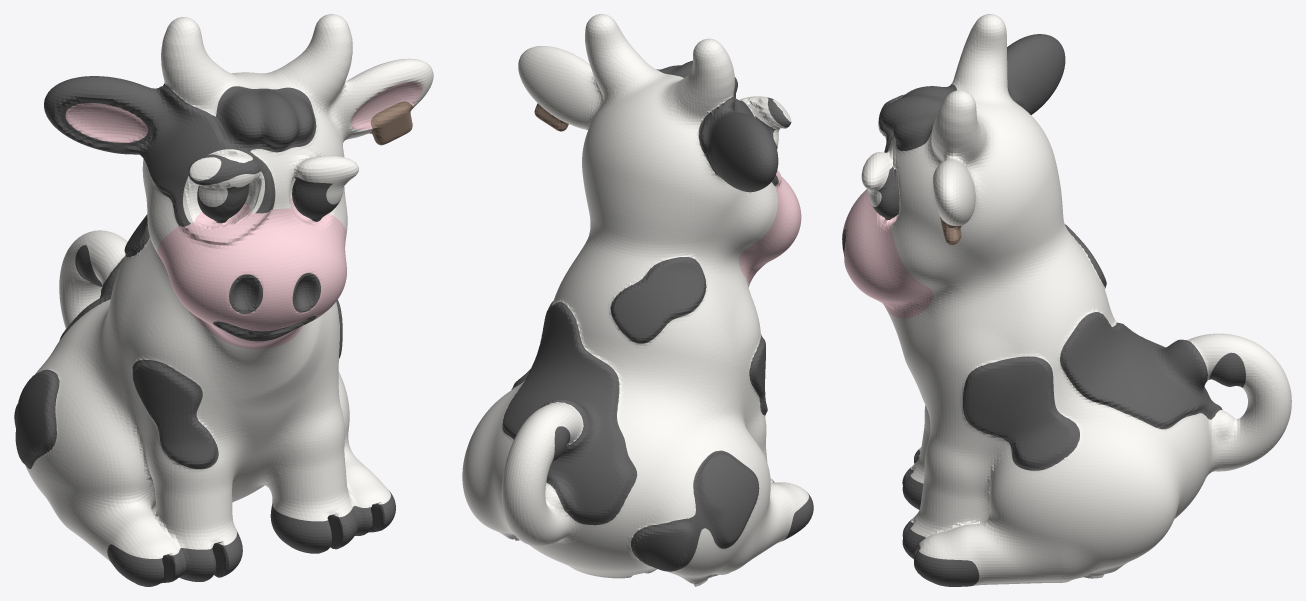
The model's file is CRW-001-cowaramup-keyring-classic.glb.
3 views of the same model, side by side, from view 1: azimuth 30°, elevation 25°; view 2: azimuth 150°, elevation 25°; view 3: azimuth 270°, elevation 25° (orthographic). The views are drawn at different scales.
Parts seen in each view (by area): view 1: T1 tool_1 [PLA Cow White] - eye highlights, eyelids, eye rin, T2 tool_2 [PLA Cow Black] - pupils, nostrils, smile, tail tu, T3 tool_3 [PLA Cow Pink] - inner ears, muzzle, T4 tool_4 [TPU Earth Brown] - ear tag; view 2: T1 tool_1 [PLA Cow White] - eye highlights, eyelids, eye rin, T2 tool_2 [PLA Cow Black] - pupils, nostrils, smile, tail tu, T3 tool_3 [PLA Cow Pink] - inner ears, muzzle; view 3: T1 tool_1 [PLA Cow White] - eye highlights, eyelids, eye rin, T2 tool_2 [PLA Cow Black] - pupils, nostrils, smile, tail tu, T3 tool_3 [PLA Cow Pink] - inner ears, muzzle.
Part boxes in pixels (<box>): T1 tool_1 [PLA Cow White] - eye highlights, eyelids, eye rin: <box>25,14,433,561</box>; T2 tool_2 [PLA Cow Black] - pupils, nostrils, smile, tail tu: <box>14,76,395,586</box>; T3 tool_3 [PLA Cow Pink] - inner ears, muzzle: <box>65,81,422,349</box>; T4 tool_4 [TPU Earth Brown] - ear tag: <box>369,101,413,145</box>; T1 tool_1 [PLA Cow White] - eye highlights, eyelids, eye rin: <box>462,14,808,586</box>; T2 tool_2 [PLA Cow Black] - pupils, nostrils, smile, tail tu: <box>502,60,813,571</box>; T3 tool_3 [PLA Cow Pink] - inner ears, muzzle: <box>739,170,801,283</box>; T1 tool_1 [PLA Cow White] - eye highlights, eyelids, eye rin: <box>861,14,1291,585</box>; T2 tool_2 [PLA Cow Black] - pupils, nostrils, smile, tail tu: <box>842,34,1245,586</box>; T3 tool_3 [PLA Cow Pink] - inner ears, muzzle: <box>842,189,933,318</box>.
Bounding box in the file's own units: 0.0315 × 0.0484 × 0.0399.
